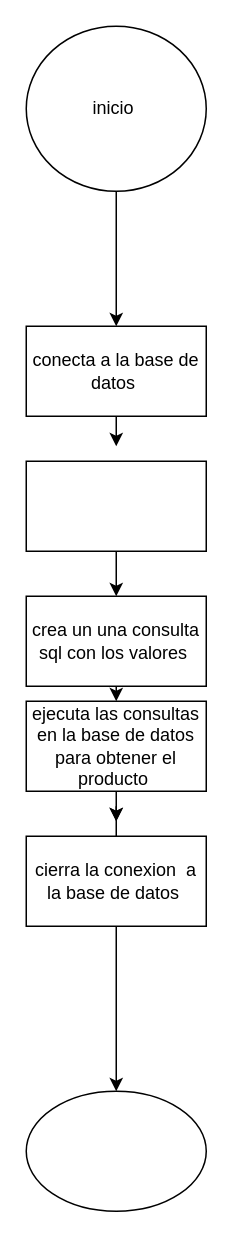
The diagram is 233 pixels wide and 1238 high, and some of its shapes have lost their labels. Here are the shapes that lost their labels. From the top down, the box of each, then its label:
(25, 460, 206, 551): ejecuta consulta en l a base de datos para insertar producto
(25, 1090, 206, 1211): fin
